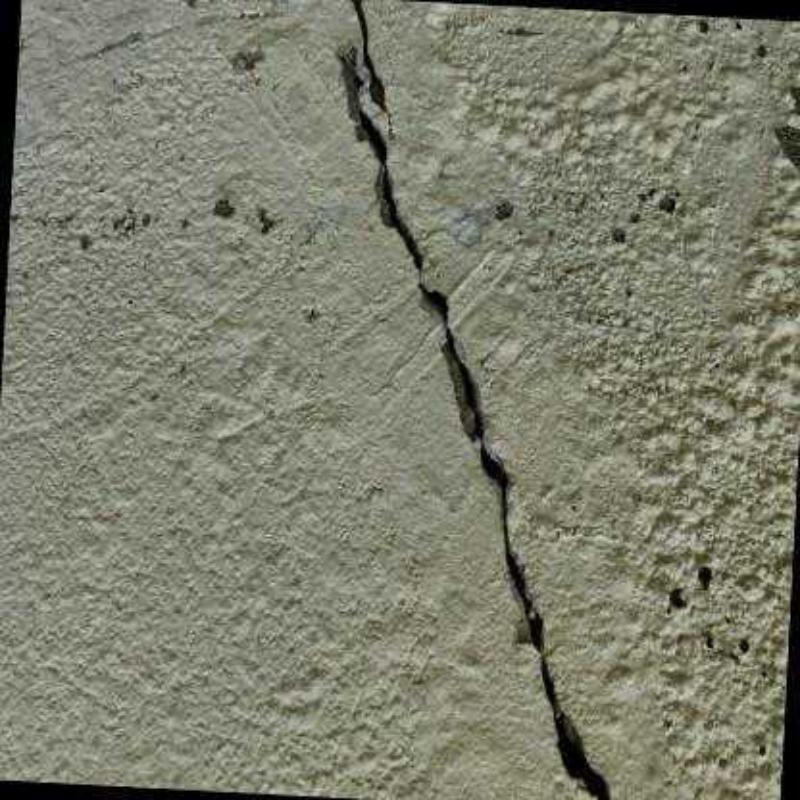pothole: (338, 0, 611, 800)
